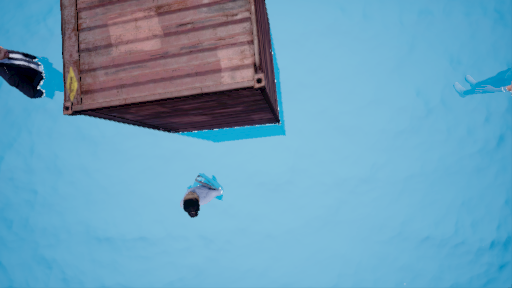person: (178, 170, 224, 220)
